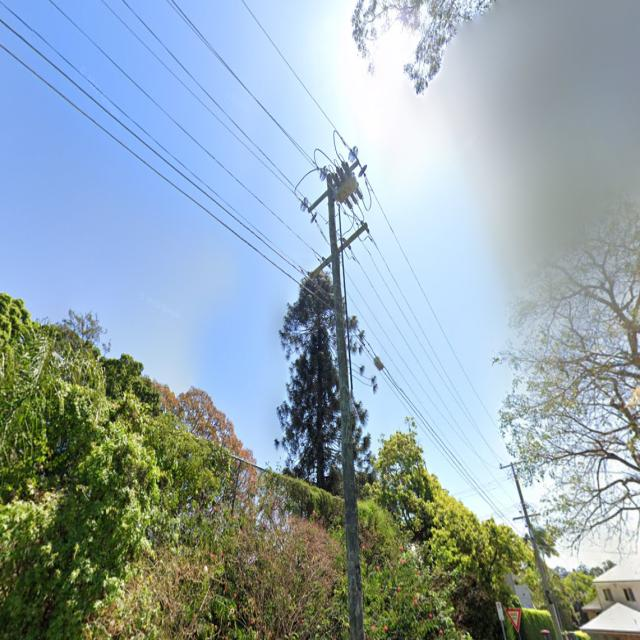HV-switch: (330, 160, 363, 210)
HV-transmission: (300, 146, 367, 224), (499, 458, 527, 470)
crossarm: (308, 221, 368, 281), (308, 158, 359, 213), (512, 512, 542, 520), (500, 460, 526, 469)
timber-pole: (326, 172, 365, 640), (510, 459, 563, 640)
